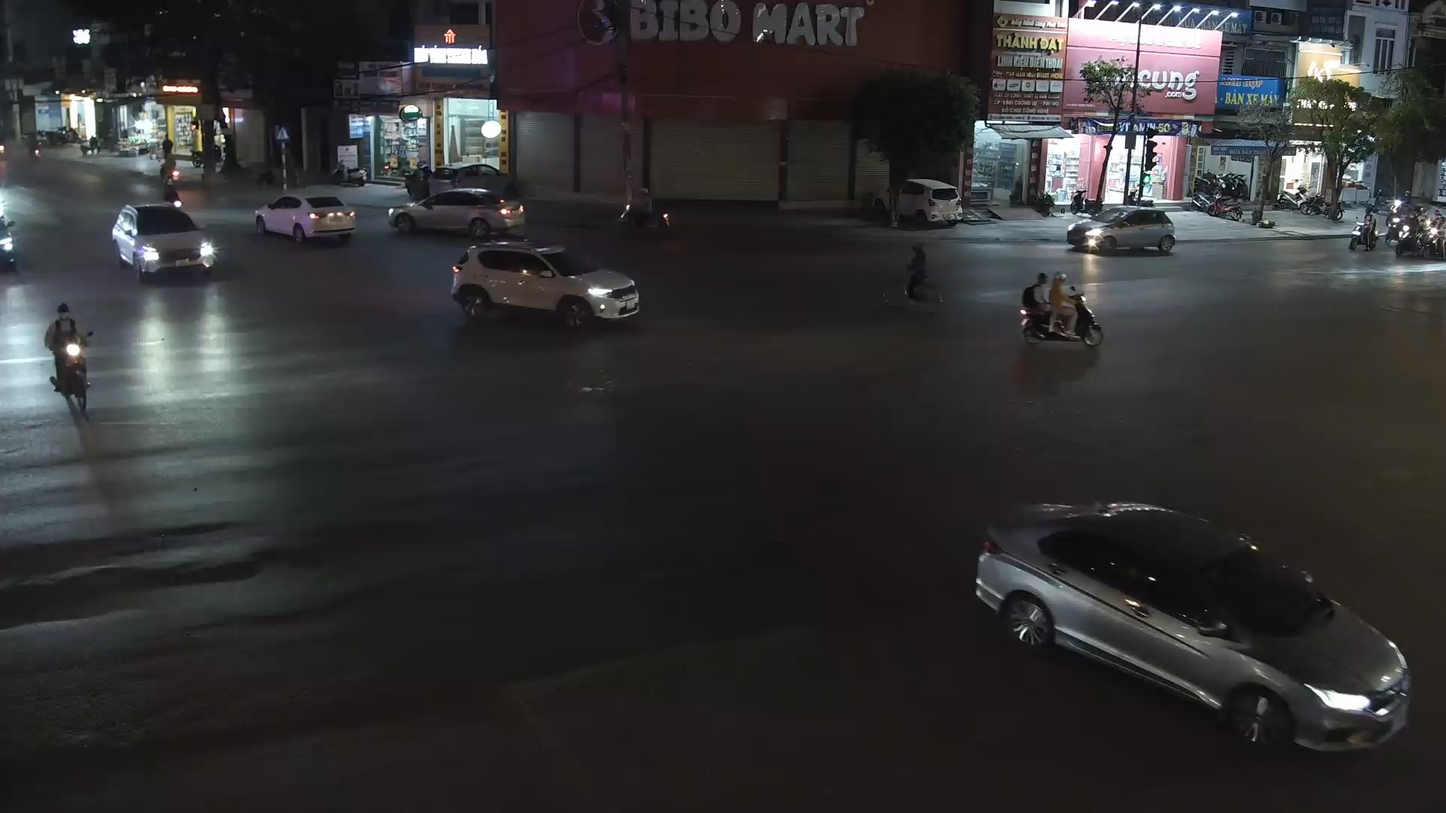car: (974, 496, 1414, 754), (447, 240, 643, 331), (110, 197, 219, 287), (386, 180, 527, 240), (251, 188, 358, 248), (1065, 203, 1178, 258)
motorbike: (1016, 269, 1106, 352), (42, 299, 97, 417)
